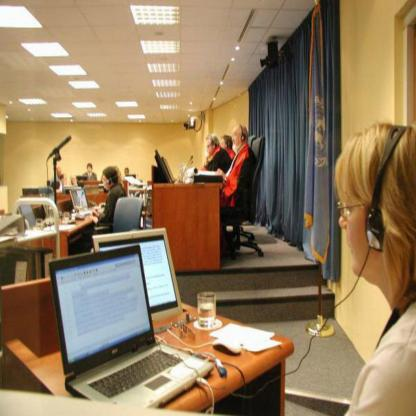board: (48, 242, 218, 410)
